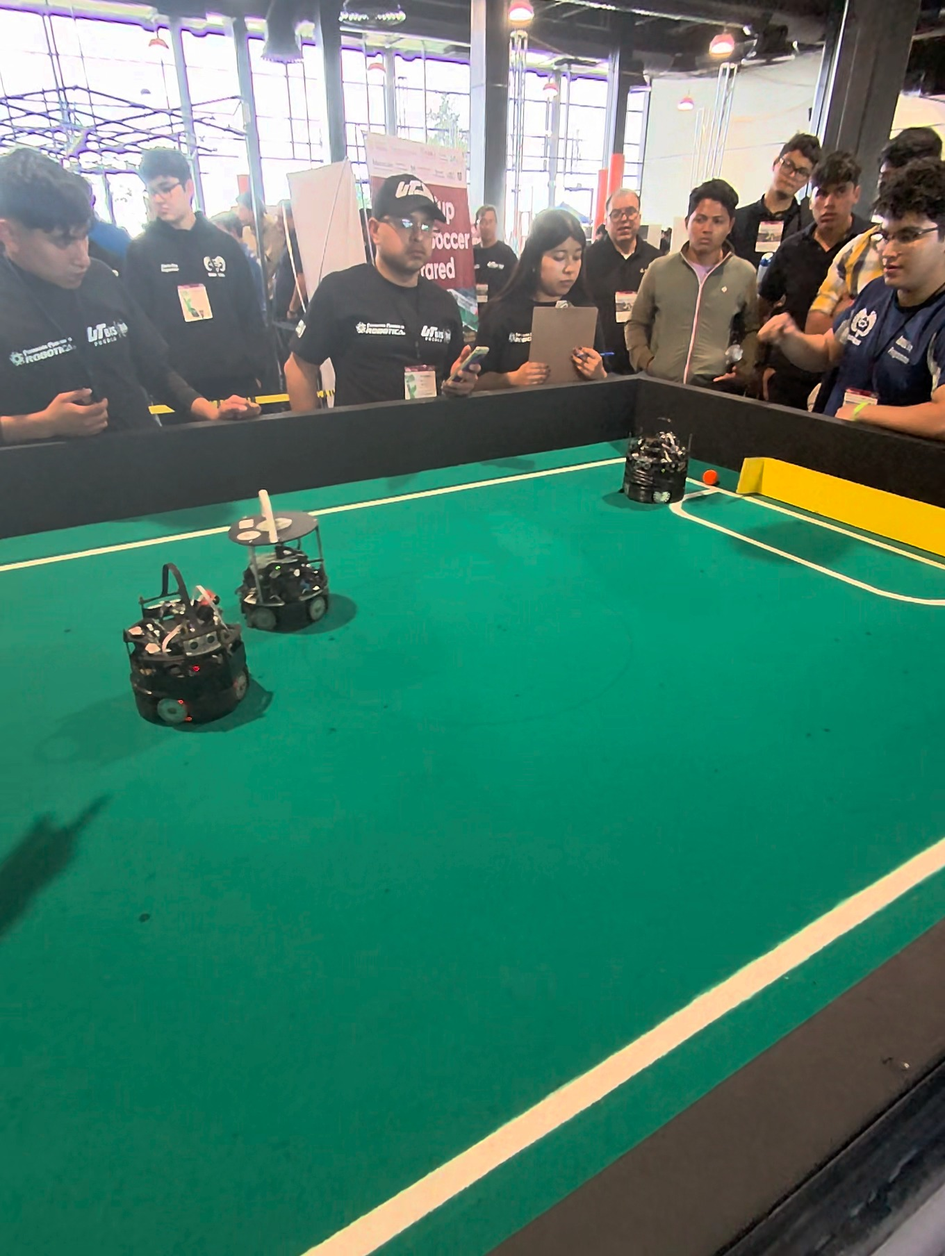Robot: (124, 560, 256, 735), (236, 497, 338, 638), (620, 415, 694, 514)
pelota: (699, 465, 723, 491)
